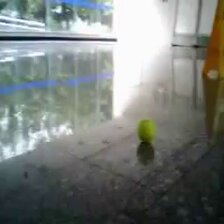tennis: (137, 119, 156, 140)
